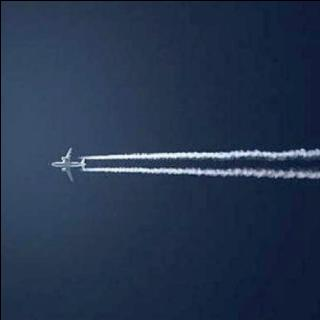Contrails: (80, 136, 320, 196)
